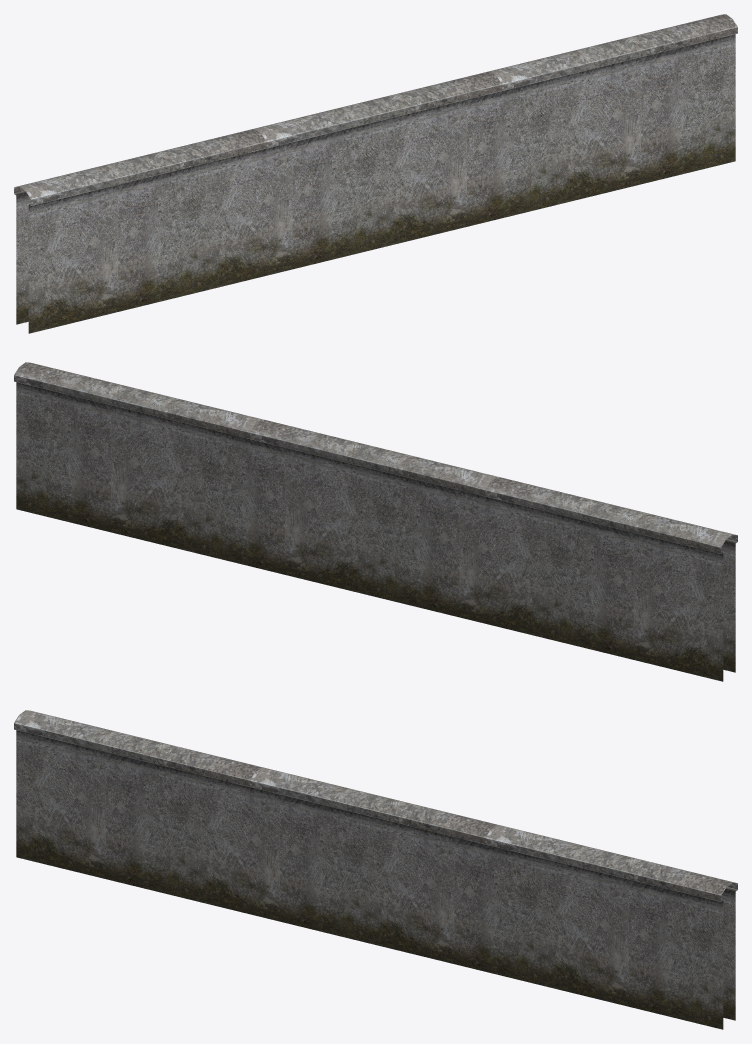
File: wallSample.fbx
The picture shows the model from 3 angles, top to bottom: view 1: azimuth 30°, elevation 25°; view 2: azimuth 150°, elevation 25°; view 3: azimuth 330°, elevation 25°; orthographic projection.
Visible parts, largest first — view 1: polySurface1708; view 2: polySurface1708; view 3: polySurface1708.
Part boxes in pixels (<box>): polySurface1708: <box>14,14,737,333</box>; polySurface1708: <box>14,362,737,681</box>; polySurface1708: <box>14,710,737,1029</box>.
Size of the model in its own units: 1828 by 346 by 75.16.
